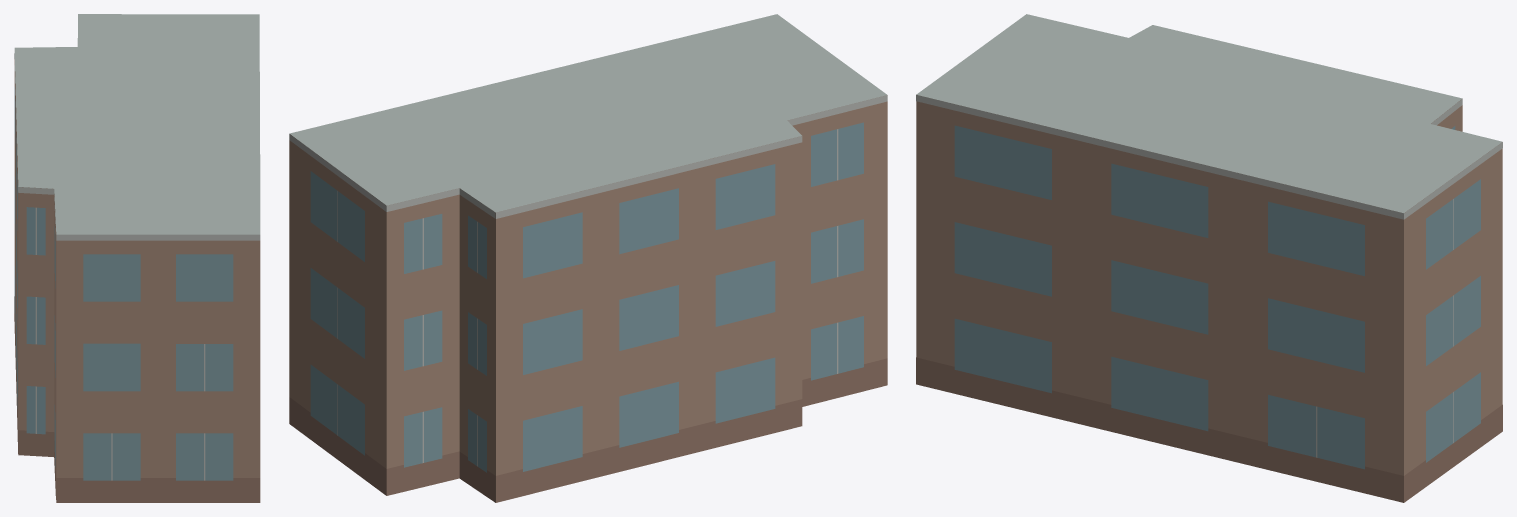
Rendered from survey-upis-32512524.glb.
3 views of the same model, side by side, from view 1: azimuth 30°, elevation 25°; view 2: azimuth 150°, elevation 25°; view 3: azimuth 270°, elevation 25° (orthographic). The views are drawn at different scales.
Visible parts, largest first — view 1: survey-upis-32512524.tmp; view 2: survey-upis-32512524.tmp; view 3: survey-upis-32512524.tmp.
Part boxes in pixels (x1=…): survey-upis-32512524.tmp: x1=14, y1=14, x2=260, y2=502; survey-upis-32512524.tmp: x1=289, y1=14, x2=887, y2=502; survey-upis-32512524.tmp: x1=916, y1=14, x2=1502, y2=502.
Size of the model in its own units: 16.09 by 10.9 by 20.02.
